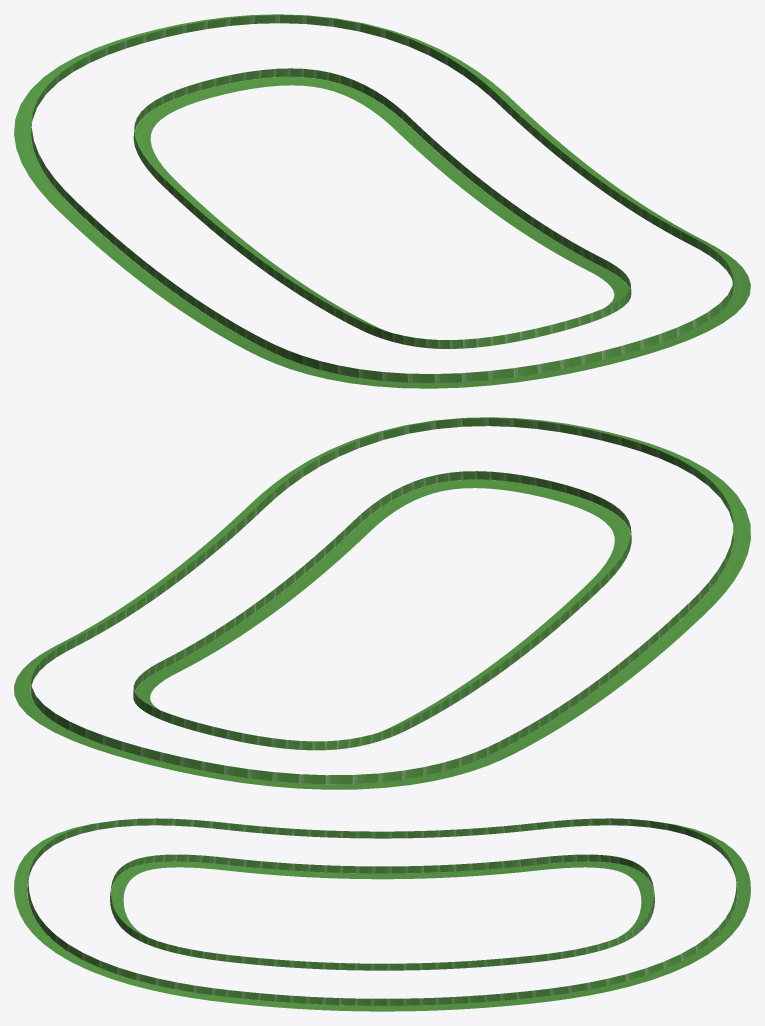
File: courseMk2DirtCollision.obj
3 renders of one model, top to bottom at view 1: azimuth 30°, elevation 25°; view 2: azimuth 150°, elevation 25°; view 3: azimuth 270°, elevation 25°, orthographic. The views are drawn at different scales.
Visible parts, largest first — view 1: JudgmentDirt_Cube.004; view 2: JudgmentDirt_Cube.004; view 3: JudgmentDirt_Cube.004.
Boxes of the visible parts, left/top/right/bottom form: JudgmentDirt_Cube.004: left=14, top=14, right=750, bottom=388; JudgmentDirt_Cube.004: left=14, top=417, right=750, bottom=789; JudgmentDirt_Cube.004: left=14, top=818, right=750, bottom=1011.
Bounding box in the file's own units: 395 × 39.32 × 688.
